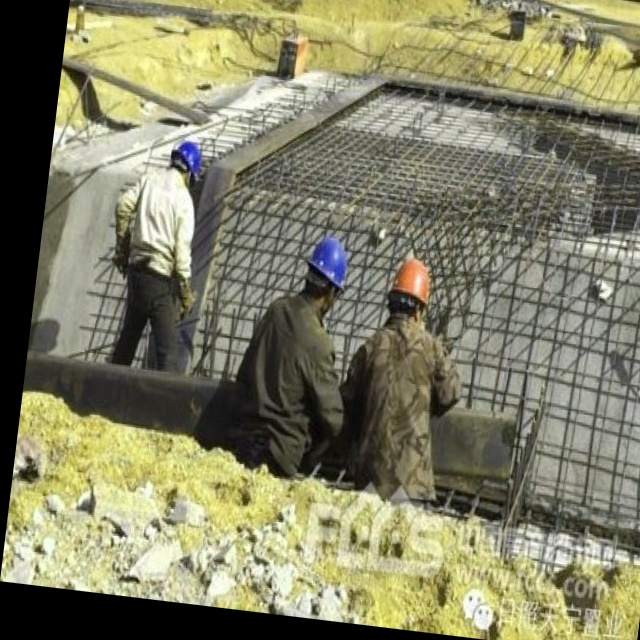Con_Casco: (305, 231, 353, 312), (385, 256, 436, 321)
